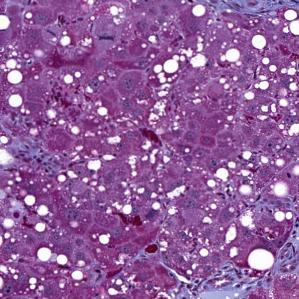fibrosis: (177, 264, 271, 299)
